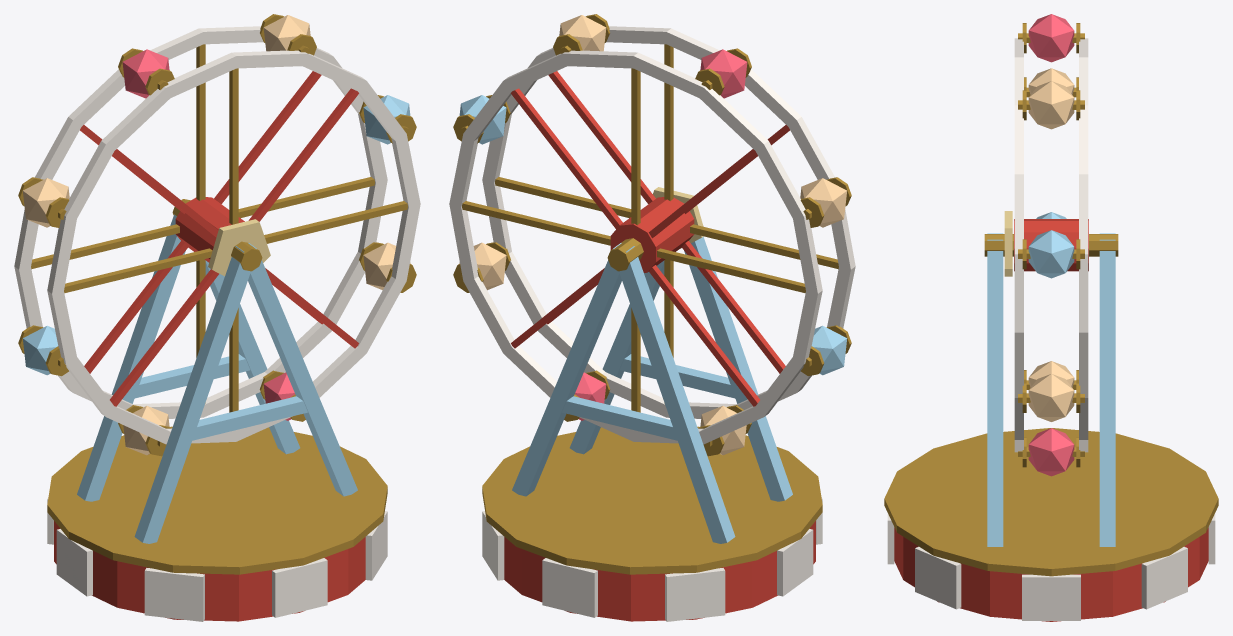
The model's file is CatCafe_Decor_FerrisLamp.glb.
The picture shows the model from 3 angles, left to right: view 1: azimuth 30°, elevation 25°; view 2: azimuth 150°, elevation 25°; view 3: azimuth 270°, elevation 25°; orthographic projection. The views are drawn at different scales.
Parts seen in each view (by area): view 1: CatCafe_Decor_FerrisLamp, CatCafe_Decor_FerrisLamp_Spin, CatCafe_Decor_FerrisLamp_Spin_Glow; view 2: CatCafe_Decor_FerrisLamp, CatCafe_Decor_FerrisLamp_Spin, CatCafe_Decor_FerrisLamp_Spin_Glow; view 3: CatCafe_Decor_FerrisLamp, CatCafe_Decor_FerrisLamp_Spin, CatCafe_Decor_FerrisLamp_Spin_Glow.
Boxes of the visible parts, <box> form: CatCafe_Decor_FerrisLamp: <box>47,199,387,621</box>; CatCafe_Decor_FerrisLamp_Spin: <box>14,14,420,456</box>; CatCafe_Decor_FerrisLamp_Spin_Glow: <box>22,15,410,455</box>; CatCafe_Decor_FerrisLamp: <box>482,236,822,621</box>; CatCafe_Decor_FerrisLamp_Spin: <box>449,14,855,456</box>; CatCafe_Decor_FerrisLamp_Spin_Glow: <box>459,15,847,455</box>; CatCafe_Decor_FerrisLamp: <box>884,233,1218,621</box>; CatCafe_Decor_FerrisLamp_Spin: <box>1004,23,1088,467</box>; CatCafe_Decor_FerrisLamp_Spin_Glow: <box>1028,14,1074,476</box>.
Size of the model in its own units: 3.22 by 4.18 by 2.5.
Materials: 1 (1 with a texture image).
